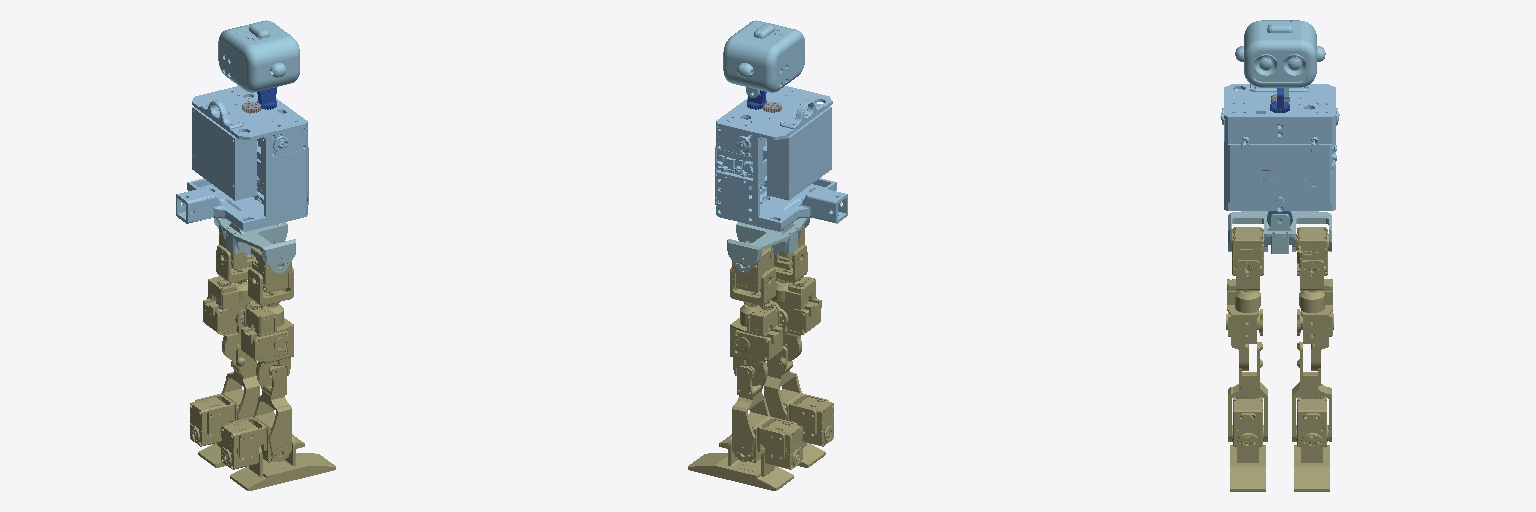
URDF robot description (toddlerbot_active):
<?xml version="1.0" ?><robot name="toddlerbot_active">  
  <link name="torso">    
    <visual>      
      <origin xyz="0 0 0" rpy="0 -0 0"/>      
      <geometry>        
        <mesh filename="package:///meshes/torso_visual.stl"/>        
      </geometry>      
      <material name="torso_material">        
        <color rgba="0.63866204066417398 0.79042612983052995546 0.89591918647189450198 1.0"/>        
      </material>      
    </visual>    
    <collision>      
      <origin xyz="0 0 0" rpy="0 -0 0"/>      
      <geometry>        
        <mesh filename="package:///meshes/torso_collision.stl"/>        
      </geometry>      
    </collision>    
    <inertial>      
      <origin xyz="-0.0025146157670445632749 -0.0034624525472092657248 0.065529395922090741267" rpy="0 0 0"/>      
      <mass value="1.085065963101202513"/>      
      <inertia ixx="0.0028272039396820135455" ixy="7.4126802941129236275e-05" ixz="1.8774159564660604415e-05" iyy="0.002249597677268255682" iyz="-2.9332579430689060759e-05" izz="0.0023020777581455841021"/>      
    </inertial>    
  </link>  

  <link name="spur_1m_20t">    
    <visual>      
      <origin xyz="0 0 0" rpy="0 -0 0"/>      
      <geometry>        
        <mesh filename="package:///meshes/spur_1m_20t_visual.stl"/>        
      </geometry>      
      <material name="spur_1m_20t_material">        
        <color rgba="0.64705882352941179736 0.64705882352941179736 0.64705882352941179736 1.0"/>        
      </material>      
    </visual>    
    <collision>      
      <origin xyz="0 0 0" rpy="0 -0 0"/>      
      <geometry>        
        <mesh filename="package:///meshes/spur_1m_20t_collision.stl"/>        
      </geometry>      
    </collision>    
    <inertial>      
      <origin xyz="-2.6272867535834243428e-19 -8.213876165191947908e-18 0.0033842321054344710884" rpy="0 0 0"/>      
      <mass value="0.0015778025963746002049"/>      
      <inertia ixx="4.5874424196602084909e-08" ixy="3.1120948173235942258e-24" ixz="-7.1097175513400468273e-39" iyy="4.5874424196602065057e-08" iyz="7.8419015231486123886e-38" izz="8.1737050837173876176e-08"/>      
    </inertial>    
  </link>  

  <joint name="neck_yaw_drive" type="fixed">    
    <origin xyz="-0.0049999999999995221878 3.1860588521011854095e-18 0.12148651076281755112" rpy="1.1607298201443905188e-14 1.6509758832059179101e-15 -5.3832337592600790636e-15"/>    
    <parent link="torso"/>    
    <child link="spur_1m_20t"/>    
    <axis xyz="0 0 1"/>    
    <limit effort="1" velocity="20"/>    
    <joint_properties friction="0.0"/>    
  </joint>  

  <link name="neck_yaw_link_v2">    
    <visual>      
      <origin xyz="0 0 0" rpy="0 -0 0"/>      
      <geometry>        
        <mesh filename="package:///meshes/neck_yaw_link_v2_visual.stl"/>        
      </geometry>      
      <material name="neck_yaw_link_v2_material">        
        <color rgba="0.2313725490196078538 0.38039215686274513439 0.7058823529411765163 1.0"/>        
      </material>      
    </visual>    
    <collision>      
      <origin xyz="0 0 0" rpy="0 -0 0"/>      
      <geometry>        
        <mesh filename="package:///meshes/neck_yaw_link_v2_collision.stl"/>        
      </geometry>      
    </collision>    
    <inertial>      
      <origin xyz="-1.1403990895340869883e-06 -1.1841855607304602894e-10 0.0082571849701004954719" rpy="0 0 0"/>      
      <mass value="0.0067298837334394097723"/>      
      <inertia ixx="5.2266067624768086445e-07" ixy="-6.3046403356094216415e-15" ixz="1.1949403084468002204e-09" iyy="6.1218519979556588152e-07" iyz="-2.601287198078358721e-15" izz="2.8062851709981924551e-07"/>      
    </inertial>    
  </link>  

  <link name="head">    
    <visual>      
      <origin xyz="0 0 0" rpy="0 -0 0"/>      
      <geometry>        
        <mesh filename="package:///meshes/head_visual.stl"/>        
      </geometry>      
      <material name="head_material">        
        <color rgba="0.62873939703496795062 0.79364291305093481732 0.87330110949792516539 1.0"/>        
      </material>      
    </visual>    
    <collision>      
      <origin xyz="0 0 0" rpy="0 -0 0"/>      
      <geometry>        
        <mesh filename="package:///meshes/head_collision.stl"/>        
      </geometry>      
    </collision>    
    <inertial>      
      <origin xyz="-0.045316002313821462932 -0.011276855645191820668 -0.0010251236602530952157" rpy="0 0 0"/>      
      <mass value="0.13722101760550839411"/>      
      <inertia ixx="0.00011880807294044733397" ixy="1.1390016804751257423e-06" ixz="1.8378816154934656445e-06" iyy="0.00010489076115433002847" iyz="-9.2536559812160233706e-06" izz="9.1894624061612226228e-05"/>      
    </inertial>    
  </link>  

  <link name="motor_plate">    
    <visual>      
      <origin xyz="0 0 0" rpy="0 -0 0"/>      
      <geometry>        
        <mesh filename="package:///meshes/motor_plate_visual.stl"/>        
      </geometry>      
      <material name="motor_plate_material">        
        <color rgba="0.64705882352941179736 0.64705882352941179736 0.64705882352941179736 1.0"/>        
      </material>      
    </visual>    
    <collision>      
      <origin xyz="0 0 0" rpy="0 -0 0"/>      
      <geometry>        
        <mesh filename="package:///meshes/motor_plate_collision.stl"/>        
      </geometry>      
    </collision>    
    <inertial>      
      <origin xyz="-6.9388939039072283776e-18 -3.4694469519536141888e-18 -0.0028281768943845498818" rpy="0 0 0"/>      
      <mass value="0.0016999999999999999053"/>      
      <inertia ixx="4.805029073310371698e-08" ixy="1.0773753257370483397e-09" ixz="-2.8434898612727714968e-36" iyy="5.1782428339099030199e-08" iyz="-8.7187946076336322982e-37" izz="9.2194729037862249329e-08"/>      
    </inertial>    
  </link>  

  <joint name="neck_pitch_act" type="fixed">    
    <origin xyz="-0.032615697718560709983 -0.027000000000000072553 0.0024999999999998486974" rpy="-3.1415926535897655825 -3.1793530896719215746e-13 -3.1415926535897407135"/>    
    <parent link="head"/>    
    <child link="motor_plate"/>    
    <axis xyz="0 0 1"/>    
    <limit effort="1" velocity="20"/>    
    <joint_properties friction="0.0"/>    
  </joint>  

  <joint name="neck_pitch" type="revolute">    
    <origin xyz="-1.1796119636642288242e-16 0.0040000000000001215139 0.019400000000000056088" rpy="-1.5707963267904627713 1.5671692223466835436 -3.1415926535886637971"/>    
    <parent link="neck_yaw_link_v2"/>    
    <child link="head"/>    
    <axis xyz="0 0 1"/>    
    <limit effort="1" velocity="20" lower="-1.3962634015954635824" upper="0.61086523819801530344"/>    
    <joint_properties friction="0.0"/>    
  </joint>  

  <joint name="neck_yaw" type="revolute">    
    <origin xyz="0.016000000000000621364 3.9122381713629107253e-19 0.12248651076281739936" rpy="1.5470695466536949876e-14 -3.0902695541116811913e-15 -8.6007558735577539147e-16"/>    
    <parent link="torso"/>    
    <child link="neck_yaw_link_v2"/>    
    <axis xyz="0 0 1"/>    
    <limit effort="1" velocity="20" lower="-2.6179938779914944114" upper="2.6179938779914944114"/>    
    <joint_properties friction="0.0"/>    
  </joint>  

  <link name="waist_gears">    
    <visual>      
      <origin xyz="0 0 0" rpy="0 -0 0"/>      
      <geometry>        
        <mesh filename="package:///meshes/waist_gears_visual.stl"/>        
      </geometry>      
      <material name="waist_gears_material">        
        <color rgba="0.29673072126509869584 0.50090014891145373532 0.63316042503557945498 1.0"/>        
      </material>      
    </visual>    
    <collision>      
      <origin xyz="0 0 0" rpy="0 -0 0"/>      
      <geometry>        
        <mesh filename="package:///meshes/waist_gears_collision.stl"/>        
      </geometry>      
    </collision>    
    <inertial>      
      <origin xyz="-2.9089024308857832571e-07 5.5035553748624927846e-08 -0.012592985430860506244" rpy="0 0 0"/>      
      <mass value="0.026337180140419177987"/>      
      <inertia ixx="1.5367047941033414761e-06" ixy="1.8828487083154202092e-11" ixz="4.0600521957505171123e-10" iyy="7.3024712275450681231e-06" iyz="3.2911737857356925833e-12" izz="6.9859065635059629397e-06"/>      
    </inertial>    
  </link>  

  <link name="waist_link">    
    <visual>      
      <origin xyz="0 0 0" rpy="0 -0 0"/>      
      <geometry>        
        <mesh filename="package:///meshes/waist_link_visual.stl"/>        
      </geometry>      
      <material name="waist_link_material">        
        <color rgba="0.64205964988973118768 0.77112878115803895618 0.80455743168009175026 1.0"/>        
      </material>      
    </visual>    
    <collision>      
      <origin xyz="0 0 0" rpy="0 -0 0"/>      
      <geometry>        
        <mesh filename="package:///meshes/waist_link_collision.stl"/>        
      </geometry>      
    </collision>    
    <inertial>      
      <origin xyz="-1.8696422424380786576e-17 -0.024647143936899634092 -0.024243097328499933762" rpy="0 0 0"/>      
      <mass value="0.10819999998618363979"/>      
      <inertia ixx="4.7479700735674147856e-05" ixy="-2.3251323235829624041e-20" ixz="-5.6250747314438694771e-09" iyy="9.6352172992785761079e-05" iyz="1.5514215856085537166e-06" izz="6.7249246473032378828e-05"/>      
    </inertial>    
  </link>  

  <link name="spiral_bevel_1m_14t_30deg">    
    <visual>      
      <origin xyz="0 0 0" rpy="0 -0 0"/>      
      <geometry>        
        <mesh filename="package:///meshes/spiral_bevel_1m_14t_30deg_visual.stl"/>        
      </geometry>      
      <material name="spiral_bevel_1m_14t_30deg_material">        
        <color rgba="0.64705882352941179736 0.64705882352941179736 0.64705882352941179736 1.0"/>        
      </material>      
    </visual>    
    <collision>      
      <origin xyz="0 0 0" rpy="0 -0 0"/>      
      <geometry>        
        <mesh filename="package:///meshes/spiral_bevel_1m_14t_30deg_collision.stl"/>        
      </geometry>      
    </collision>    
    <inertial>      
      <origin xyz="7.4971447105998133901e-10 7.1802237332913011122e-10 0.0066868955018979173155" rpy="0 0 0"/>      
      <mass value="0.00073261524436595492574"/>      
      <inertia ixx="1.3495056019478195011e-08" ixy="4.0596681291792787018e-17" ixz="8.5992550177701704034e-16" iyy="1.3495056150237195634e-08" iyz="-6.7913008238986341959e-16" izz="1.43559865498164051e-08"/>      
    </inertial>    
  </link>  

  <joint name="waist_act_1" type="fixed">    
    <origin xyz="-4.2595620045002374081e-18 -0.019600000000000006306 -0.012749999999999992242" rpy="1.570796326794896558 -1.1294754804497596673e-16 3.1415926535897926719"/>    
    <parent link="waist_link"/>    
    <child link="spiral_bevel_1m_14t_30deg"/>    
    <axis xyz="0 0 1"/>    
    <limit effort="1" velocity="20"/>    
    <joint_properties friction="0.0"/>    
  </joint>  

  <link name="spiral_bevel_1m_14t_30deg_2">    
    <visual>      
      <origin xyz="0 0 0" rpy="0 -0 0"/>      
      <geometry>        
        <mesh filename="package:///meshes/spiral_bevel_1m_14t_30deg_2_visual.stl"/>        
      </geometry>      
      <material name="spiral_bevel_1m_14t_30deg_2_material">        
        <color rgba="0.64705882352941179736 0.64705882352941179736 0.64705882352941179736 1.0"/>        
      </material>      
    </visual>    
    <collision>      
      <origin xyz="0 0 0" rpy="0 -0 0"/>      
      <geometry>        
        <mesh filename="package:///meshes/spiral_bevel_1m_14t_30deg_2_collision.stl"/>        
      </geometry>      
    </collision>    
    <inertial>      
      <origin xyz="3.6393116992217144912e-10 -9.7220472687967185443e-10 -0.0066868955018979190502" rpy="0 0 0"/>      
      <mass value="0.00073261524436595492574"/>      
      <inertia ixx="1.3495056012354480834e-08" ixy="2.5804135489187712274e-17" ixz="-1.069429605266726274e-15" iyy="1.3495056157360909811e-08" iyz="-2.387673694220831759e-16" izz="1.4355986549816408408e-08"/>      
    </inertial>    
  </link>  

  <joint name="waist_act_2" type="fixed">    
    <origin xyz="1.2028779959866843989e-17 -0.019599999999999999367 -0.032750000000000001332" rpy="-1.570796326794896558 1.1469143902292295508e-17 -3.141592653589793116"/>    
    <parent link="waist_link"/>    
    <child link="spiral_bevel_1m_14t_30deg_2"/>    
    <axis xyz="0 0 1"/>    
    <limit effort="1" velocity="20"/>    
    <joint_properties friction="0.0"/>    
  </joint>  

  <link name="left_leg_active">    
    <visual>      
      <origin xyz="0 0 0" rpy="0 -0 0"/>      
      <geometry>        
        <mesh filename="package:///meshes/left_leg_active_visual.stl"/>        
      </geometry>      
      <material name="left_leg_active_material">        
        <color rgba="0.67835035434534174392 0.664565314370153426 0.49955906843423497632 1.0"/>        
      </material>      
    </visual>    
    <collision>      
      <origin xyz="0 0 0" rpy="0 -0 0"/>      
      <geometry>        
        <mesh filename="package:///meshes/left_leg_active_collision.stl"/>        
      </geometry>      
    </collision>    
    <inertial>      
      <origin xyz="-0.14092425877841704973 0.0077365634042377640425 0.017464576249293012333" rpy="0 0 0"/>      
      <mass value="0.52921784862573284514"/>      
      <inertia ixx="0.00027159349071758195253" ixy="0.00012975665444408371915" ixz="4.4692420290224279676e-05" iyy="0.0046945349426157695003" iyz="2.4210259476750212908e-06" izz="0.0048508184546251715066"/>      
    </inertial>    
  </link>  

  <joint name="left_hip_pitch" type="revolute">    
    <origin xyz="0.05600000000000003586 -0.040100000000000766975 -0.02275000000000062389" rpy="-1.570796326794896558 2.3372262395059397709e-15 1.5707963267948974462"/>    
    <parent link="waist_link"/>    
    <child link="left_leg_active"/>    
    <axis xyz="0 0 1"/>    
    <limit effort="1" velocity="20" lower="-1.570796326794896558" upper="2.356194490192344837"/>    
    <joint_properties friction="0.0"/>    
  </joint>  

  <link name="right_leg_active">    
    <visual>      
      <origin xyz="0 0 0" rpy="0 -0 0"/>      
      <geometry>        
        <mesh filename="package:///meshes/right_leg_active_visual.stl"/>        
      </geometry>      
      <material name="right_leg_active_material">        
        <color rgba="0.67876327671658420737 0.66359535004692016269 0.49672657180944773669 1.0"/>        
      </material>      
    </visual>    
    <collision>      
      <origin xyz="0 0 0" rpy="0 -0 0"/>      
      <geometry>        
        <mesh filename="package:///meshes/right_leg_active_collision.stl"/>        
      </geometry>      
    </collision>    
    <inertial>      
      <origin xyz="-0.14116534832532304233 -0.0075848241194076508609 0.017478255614581609395" rpy="0 0 0"/>      
      <mass value="0.52575341814690124131"/>      
      <inertia ixx="0.00027208293955285965497" ixy="-0.000142807757240519614" ixz="4.4517445869087677527e-05" iyy="0.00468709591741410872" iyz="-3.8190578771648266574e-06" izz="0.0048443980856464063933"/>      
    </inertial>    
  </link>  

  <joint name="right_hip_pitch" type="revolute">    
    <origin xyz="-0.055999999999999966471 -0.040099999999999282052 -0.022750000000000037553" rpy="1.57079632679489678 3.8857805862892459266e-16 1.5707963267948961139"/>    
    <parent link="waist_link"/>    
    <child link="right_leg_active"/>    
    <axis xyz="0 0 1"/>    
    <limit effort="1" velocity="20" lower="-2.356194490192344837" upper="1.570796326794896558"/>    
    <joint_properties friction="0.0"/>    
  </joint>  

  <joint name="waist_roll" type="revolute">    
    <origin xyz="-0.022707865260692423198 -9.7274600111297846042e-19 -0.014000000000000000291" rpy="1.570796326794896558 8.4288122184796088386e-16 -1.570796326794896558"/>    
    <parent link="waist_gears"/>    
    <child link="waist_link"/>    
    <axis xyz="0 0 1"/>    
    <limit effort="1" velocity="20" lower="-0.52359877559829881566" upper="0.52359877559829881566"/>    
    <joint_properties friction="0.0"/>    
  </joint>  

  <joint name="waist_yaw" type="revolute">    
    <origin xyz="0 2.3419308123748787973e-31 -2.4651903288156618919e-32" rpy="1.7541622236939310179e-17 -3.9276012762146508757e-15 3.1415926535897922278"/>    
    <parent link="torso"/>    
    <child link="waist_gears"/>    
    <axis xyz="0 0 1"/>    
    <limit effort="1" velocity="20" lower="-1.570796326794896558" upper="1.570796326794896558"/>    
    <joint_properties friction="0.0"/>    
  </joint>  

  <link name="left_arm_active">    
    <visual>      
      <origin xyz="0 0 0" rpy="0 -0 0"/>      
      <geometry>        
        <mesh filename="package:///meshes/left_arm_active_visual.stl"/>        
      </geometry>      
      <material name="left_arm_active_material">        
        <color rgba="0.72341525389597438611 0.82443744477834624007 0.88223563844125418854 1.0"/>        
      </material>      
    </visual>    
    <collision>      
      <origin xyz="0 0 0" rpy="0 -0 0"/>      
      <geometry>        
        <mesh filename="package:///meshes/left_arm_active_collision.stl"/>        
      </geometry>      
    </collision>    
    <inertial>      
      <origin xyz="-0.00016036435969828059908 0.095083207758240154139 0.03394084089040318164" rpy="0 0 0"/>      
      <mass value="0.45670014698257832553"/>      
      <inertia ixx="0.0023660873890197224763" ixy="-7.3963929048819939324e-06" ixz="1.2562640552599602809e-07" iyy="0.00016046488915592976572" iyz="8.7828546788881899543e-05" izz="0.0023335501993751606858"/>      
    </inertial>    
  </link>  

  <joint name="left_sho_pitch" type="revolute">    
    <origin xyz="-0.0035000000000004762545 0.067000000000001072586 0.10423651076281729988" rpy="-1.5707963267949092145 -4.1276434099564722448e-14 3.4723733359247937182e-14"/>    
    <parent link="torso"/>    
    <child link="left_arm_active"/>    
    <axis xyz="0 0 1"/>    
    <limit effort="1" velocity="20" lower="-3.141592653589793116" upper="1.570796326794896558"/>    
    <joint_properties friction="0.0"/>    
  </joint>  

  <link name="right_arm_active">    
    <visual>      
      <origin xyz="0 0 0" rpy="0 -0 0"/>      
      <geometry>        
        <mesh filename="package:///meshes/right_arm_active_visual.stl"/>        
      </geometry>      
      <material name="right_arm_active_material">        
        <color rgba="0.72341525389597460816 0.82443744477834646212 0.88223563844125429956 1.0"/>        
      </material>      
    </visual>    
    <collision>      
      <origin xyz="0 0 0" rpy="0 -0 0"/>      
      <geometry>        
        <mesh filename="package:///meshes/right_arm_active_collision.stl"/>        
      </geometry>      
    </collision>    
    <inertial>      
      <origin xyz="-7.1603222576714910751e-05 0.095083207758231910733 0.033940840890699569554" rpy="0 0 0"/>      
      <mass value="0.45670014698257821451"/>      
      <inertia ixx="0.0023660873890183719941" ixy="-1.2149368780260271124e-05" ixz="9.4880455659918878647e-08" iyy="0.00016047429247689865245" iyz="8.7828546774973510129e-05" izz="0.0023335596026967009471"/>      
    </inertial>    
  </link>  

  <joint name="right_sho_pitch" type="revolute">    
    <origin xyz="-0.003499999999998689923 -0.067000000000001017075 0.10423651076281729988" rpy="-1.5707963267948874542 3.6375999989622199756e-14 -3.1415926535897562566"/>    
    <parent link="torso"/>    
    <child link="right_arm_active"/>    
    <axis xyz="0 0 1"/>    
    <limit effort="1" velocity="20" lower="-1.570796326794896558" upper="3.141592653589793116"/>    
    <joint_properties friction="0.0"/>    
  </joint>  


</robot>

--- Facts derived from the render (not from the file) ---
3 views of the same robot in one strip: view 1: azimuth 30°, elevation 25°; view 2: azimuth 150°, elevation 25°; view 3: azimuth 270°, elevation 25° (orthographic).
Model toddlerbot_active with 13 links and 12 joints (8 revolute, 4 fixed), rooted at torso, posed all joints at 0.
Visible links, largest first — view 1: torso, right_leg_active, left_leg_active, head, waist_link; view 2: torso, left_leg_active, right_leg_active, head, waist_link; view 3: torso, right_leg_active, left_leg_active, head, waist_link.
Link boxes in pixels (left/top/right/bottom): torso: left=176, top=86, right=308, bottom=231; right_leg_active: left=221, top=241, right=335, bottom=490; left_leg_active: left=190, top=225, right=304, bottom=467; head: left=218, top=20, right=299, bottom=92; waist_link: left=214, top=218, right=295, bottom=273; torso: left=715, top=86, right=847, bottom=231; left_leg_active: left=688, top=241, right=802, bottom=490; right_leg_active: left=719, top=225, right=833, bottom=467; head: left=723, top=20, right=804, bottom=97; waist_link: left=727, top=217, right=809, bottom=272; torso: left=1220, top=84, right=1339, bottom=211; right_leg_active: left=1226, top=227, right=1267, bottom=491; left_leg_active: left=1292, top=227, right=1333, bottom=491; head: left=1235, top=20, right=1325, bottom=99; waist_link: left=1228, top=211, right=1331, bottom=253.
Bounding box of the posed robot: 0.1752 × 0.1376 × 0.5614 m (x, y, z).
11 mesh visuals loaded from 13 distinct referenced files (11 binary STL); not drawn: 2 (reference not matched to a file when rendering).